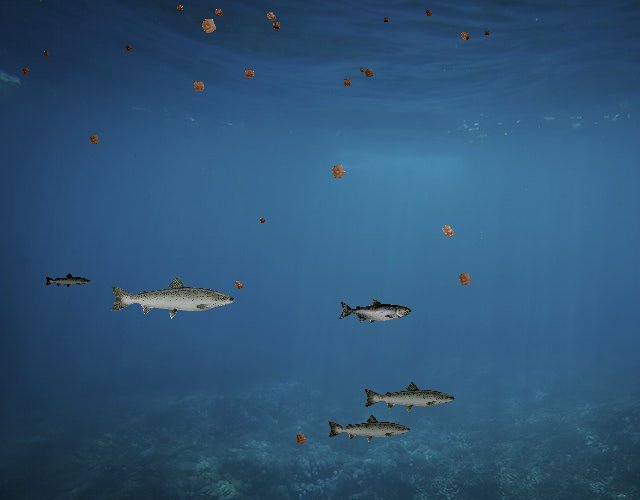Fish: (108, 274, 237, 320), (363, 381, 457, 415), (326, 413, 412, 444), (338, 298, 411, 325), (44, 272, 91, 289)
Pellet: (194, 10, 224, 40), (434, 217, 461, 244), (452, 266, 478, 292), (187, 75, 210, 98), (290, 428, 312, 450), (172, 1, 187, 16), (122, 41, 136, 55), (256, 214, 268, 226)
